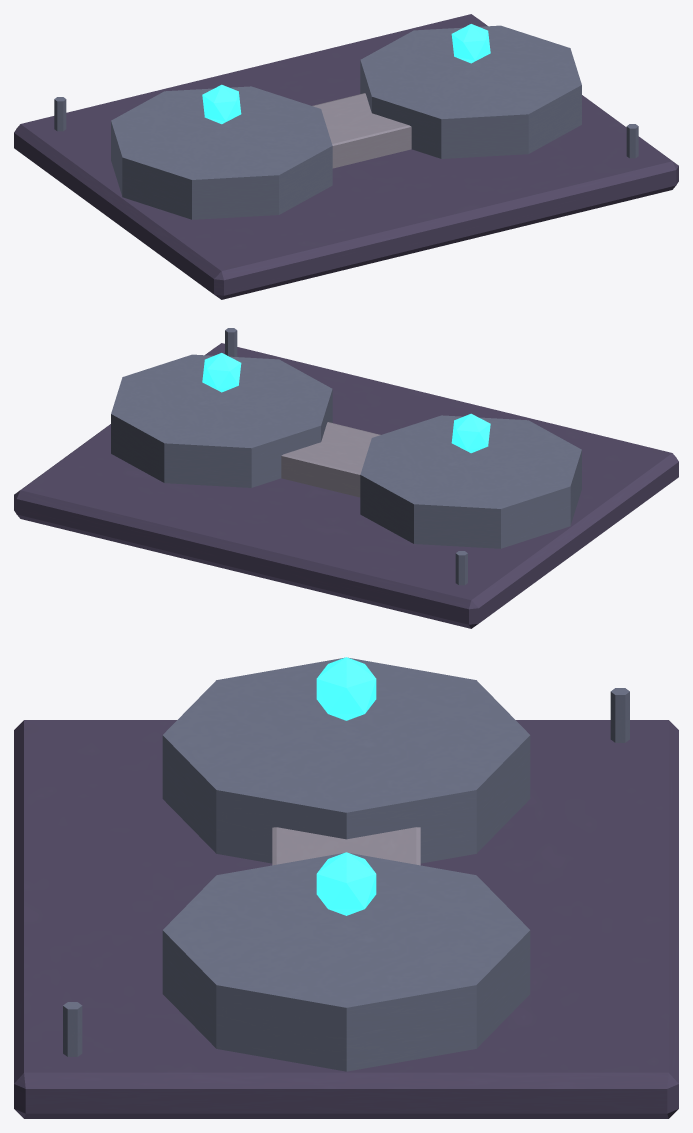
The model's file is veil-citadel.glb.
3 renders of one model, top to bottom at view 1: azimuth 30°, elevation 25°; view 2: azimuth 150°, elevation 25°; view 3: azimuth 270°, elevation 25°, orthographic. The views are drawn at different scales.
Visible parts, largest first — view 1: citadel-floor, citadel-plateau-0, citadel-plateau-1, citadel-spine, citadel-node-1, citadel-node-0, citadel-corner-totem-0, citadel-corner-totem-1; view 2: citadel-floor, citadel-plateau-0, citadel-plateau-1, citadel-spine, citadel-node-1, citadel-node-0; view 3: citadel-floor, citadel-plateau-1, citadel-plateau-0, citadel-spine, citadel-node-0, citadel-node-1, citadel-corner-totem-1, citadel-corner-totem-0.
Part boxes in pixels (left/top/right/bottom): citadel-floor: left=14, top=14, right=678, bottom=299; citadel-plateau-0: left=111, top=86, right=332, bottom=219; citadel-plateau-1: left=360, top=25, right=581, bottom=158; citadel-spine: left=312, top=93, right=411, bottom=168; citadel-node-1: left=451, top=24, right=490, bottom=63; citadel-node-0: left=202, top=84, right=241, bottom=124; citadel-corner-totem-0: left=54, top=97, right=66, bottom=131; citadel-corner-totem-1: left=626, top=124, right=638, bottom=158; citadel-floor: left=14, top=343, right=678, bottom=628; citadel-plateau-0: left=360, top=415, right=581, bottom=548; citadel-plateau-1: left=111, top=354, right=332, bottom=487; citadel-spine: left=281, top=422, right=380, bottom=497; citadel-node-1: left=202, top=353, right=241, bottom=392; citadel-node-0: left=451, top=413, right=490, bottom=453; citadel-floor: left=14, top=720, right=678, bottom=1118; citadel-plateau-1: left=162, top=853, right=530, bottom=1071; citadel-plateau-0: left=162, top=657, right=530, bottom=863; citadel-spine: left=272, top=827, right=420, bottom=865; citadel-node-0: left=316, top=657, right=376, bottom=720; citadel-node-1: left=316, top=852, right=376, bottom=915; citadel-corner-totem-1: left=63, top=1002, right=82, bottom=1056; citadel-corner-totem-0: left=610, top=688, right=629, bottom=742.
Size of the model in its own units: 4.4 by 1.06 by 3.4.
Materials: 4 (4 with a texture image).
